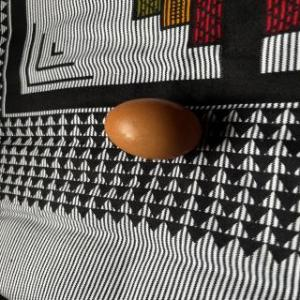egg: (100, 96, 208, 160)
